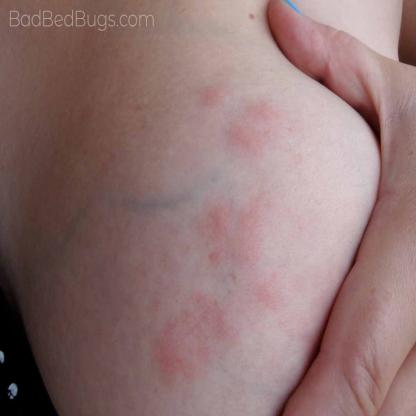Bed Bug: (149, 293, 240, 399), (193, 189, 284, 272), (251, 279, 304, 333), (222, 127, 280, 163), (196, 70, 233, 113), (244, 94, 285, 126)
